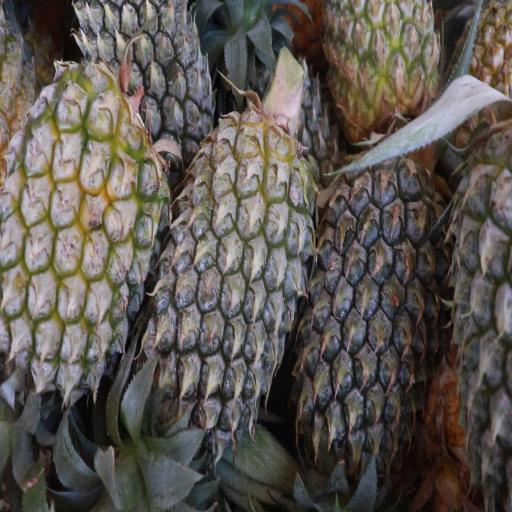------------------------------: (0, 66, 155, 386), (323, 0, 440, 139)
